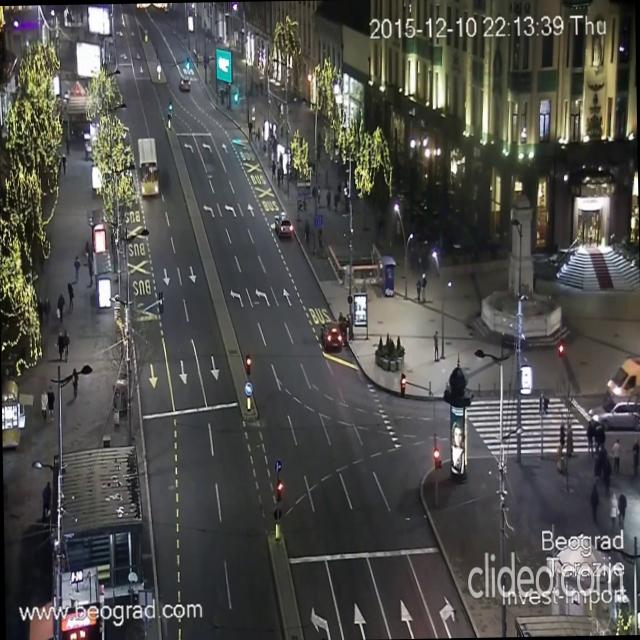bus: (137, 136, 159, 195)
car: (605, 355, 640, 402), (588, 397, 640, 428), (320, 321, 343, 352), (274, 211, 293, 238), (178, 76, 190, 90)
